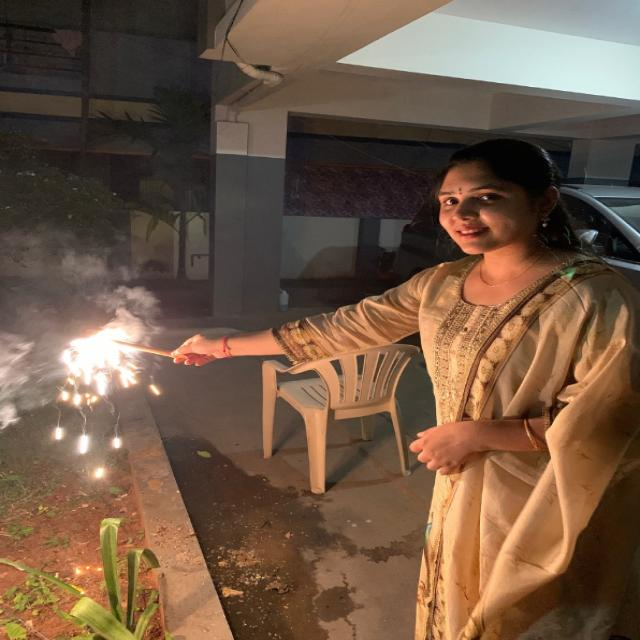fire: (61, 325, 142, 407)
